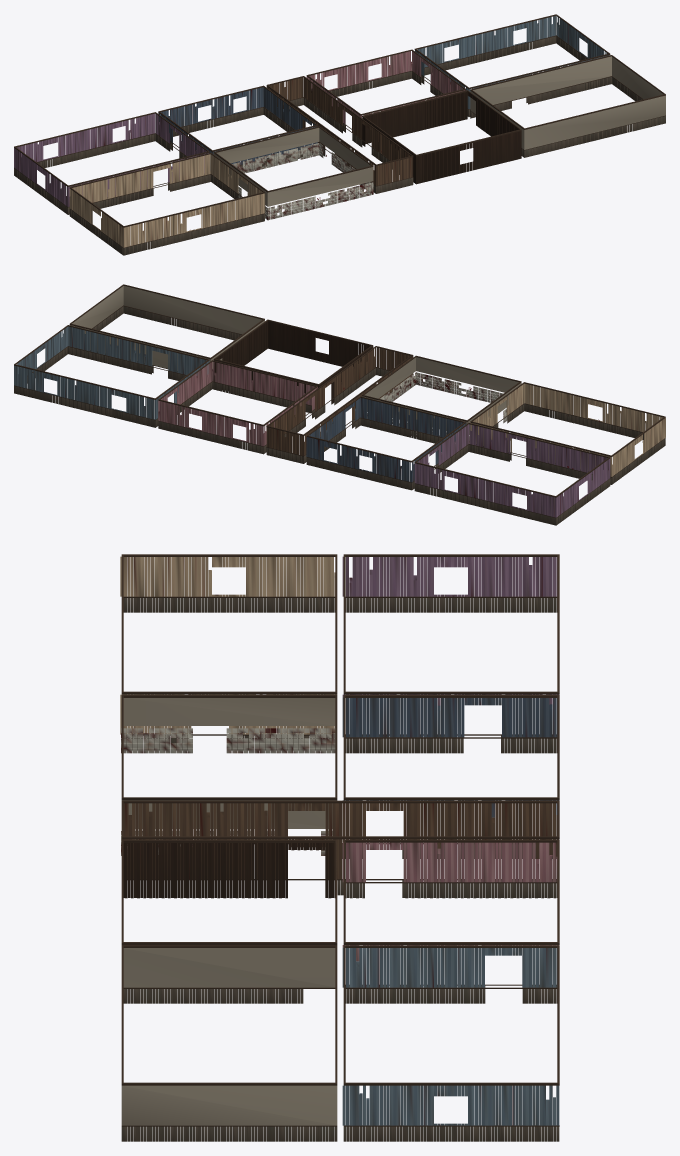
File: FarmhouseInteriorUpper2.glb
The picture shows the model from 3 angles, top to bottom: view 1: azimuth 30°, elevation 25°; view 2: azimuth 150°, elevation 25°; view 3: azimuth 270°, elevation 25°; orthographic projection. The views are drawn at different scales.
Parts seen in each view (by area): view 1: FarmhouseInteriorUpper2_plaster_raw, FarmhouseInteriorUpper2_trim, FarmhouseInteriorUpper2_wood_old, FarmhouseInteriorUpper2_panel_dark, FarmhouseInteriorUpper2_paper_sewingA, FarmhouseInteriorUpper2_paper_sewingB, FarmhouseInteriorUpper2_paper_grandmaA, FarmhouseInteriorUpper2_paper_grandmaB, FarmhouseInteriorUpper2_wood_old_2, FarmhouseInteriorUpper2_tile, FarmhouseInteriorUpper2_paper_hallA, FarmhouseInteriorUpper2_paper_hallB (+6 smaller); view 2: FarmhouseInteriorUpper2_wood_old, FarmhouseInteriorUpper2_trim, FarmhouseInteriorUpper2_plaster_raw, FarmhouseInteriorUpper2_paper_grandmaA, FarmhouseInteriorUpper2_paper_grandmaB, FarmhouseInteriorUpper2_paper_guestA, FarmhouseInteriorUpper2_paper_guestB, FarmhouseInteriorUpper2_panel_dark, FarmhouseInteriorUpper2_paper_kidsB, FarmhouseInteriorUpper2_paper_masterA, FarmhouseInteriorUpper2_paper_sewingA, FarmhouseInteriorUpper2_paper_sewingB (+6 smaller); view 3: FarmhouseInteriorUpper2_plaster_raw, FarmhouseInteriorUpper2_trim, FarmhouseInteriorUpper2_wood_old, FarmhouseInteriorUpper2_panel_dark, FarmhouseInteriorUpper2_paper_guestA, FarmhouseInteriorUpper2_paper_hallA, FarmhouseInteriorUpper2_paper_guestB, FarmhouseInteriorUpper2_paper_hallB, FarmhouseInteriorUpper2_wood_old_2, FarmhouseInteriorUpper2_paper_sewingB, FarmhouseInteriorUpper2_paper_sewingA, FarmhouseInteriorUpper2_tile (+6 smaller).
Boxes of the visible parts, x1=… form: FarmhouseInteriorUpper2_plaster_raw: x1=214, y1=56, x2=665, y2=206; FarmhouseInteriorUpper2_trim: x1=14, y1=14, x2=665, y2=248; FarmhouseInteriorUpper2_wood_old: x1=14, y1=36, x2=586, y2=255; FarmhouseInteriorUpper2_panel_dark: x1=362, y1=92, x2=521, y2=184; FarmhouseInteriorUpper2_paper_sewingA: x1=69, y1=154, x2=262, y2=247; FarmhouseInteriorUpper2_paper_sewingB: x1=70, y1=154, x2=265, y2=247; FarmhouseInteriorUpper2_paper_grandmaA: x1=14, y1=113, x2=206, y2=206; FarmhouseInteriorUpper2_paper_grandmaB: x1=15, y1=113, x2=209, y2=206; FarmhouseInteriorUpper2_wood_old_2: x1=283, y1=76, x2=665, y2=193; FarmhouseInteriorUpper2_tile: x1=232, y1=143, x2=373, y2=220; FarmhouseInteriorUpper2_paper_hallA: x1=266, y1=77, x2=413, y2=185; FarmhouseInteriorUpper2_paper_hallB: x1=267, y1=78, x2=411, y2=185; FarmhouseInteriorUpper2_wood_old: x1=14, y1=346, x2=665, y2=525; FarmhouseInteriorUpper2_trim: x1=14, y1=284, x2=665, y2=517; FarmhouseInteriorUpper2_plaster_raw: x1=70, y1=286, x2=521, y2=434; FarmhouseInteriorUpper2_paper_grandmaA: x1=414, y1=425, x2=610, y2=517; FarmhouseInteriorUpper2_paper_grandmaB: x1=415, y1=424, x2=609, y2=517; FarmhouseInteriorUpper2_paper_guestA: x1=14, y1=327, x2=208, y2=419; FarmhouseInteriorUpper2_paper_guestB: x1=14, y1=326, x2=209, y2=419; FarmhouseInteriorUpper2_panel_dark: x1=214, y1=321, x2=373, y2=404; FarmhouseInteriorUpper2_paper_kidsB: x1=158, y1=361, x2=317, y2=445; FarmhouseInteriorUpper2_paper_masterA: x1=307, y1=398, x2=465, y2=482; FarmhouseInteriorUpper2_paper_sewingA: x1=470, y1=384, x2=664, y2=476; FarmhouseInteriorUpper2_paper_sewingB: x1=471, y1=383, x2=665, y2=475; FarmhouseInteriorUpper2_plaster_raw: x1=121, y1=698, x2=337, y2=1125; FarmhouseInteriorUpper2_trim: x1=121, y1=554, x2=559, y2=1126; FarmhouseInteriorUpper2_wood_old: x1=123, y1=598, x2=559, y2=1141; FarmhouseInteriorUpper2_panel_dark: x1=123, y1=843, x2=335, y2=898; FarmhouseInteriorUpper2_paper_guestA: x1=346, y1=948, x2=559, y2=1125; FarmhouseInteriorUpper2_paper_hallA: x1=121, y1=803, x2=559, y2=879; FarmhouseInteriorUpper2_paper_guestB: x1=342, y1=947, x2=555, y2=1125; FarmhouseInteriorUpper2_paper_hallB: x1=125, y1=803, x2=555, y2=879; FarmhouseInteriorUpper2_wood_old_2: x1=121, y1=844, x2=556, y2=1141; FarmhouseInteriorUpper2_paper_sewingB: x1=120, y1=556, x2=333, y2=734; FarmhouseInteriorUpper2_paper_sewingA: x1=123, y1=557, x2=336, y2=734; FarmhouseInteriorUpper2_tile: x1=121, y1=728, x2=335, y2=855.
Bounding box in the file's own units: 203 × 10.38 × 71.18.
